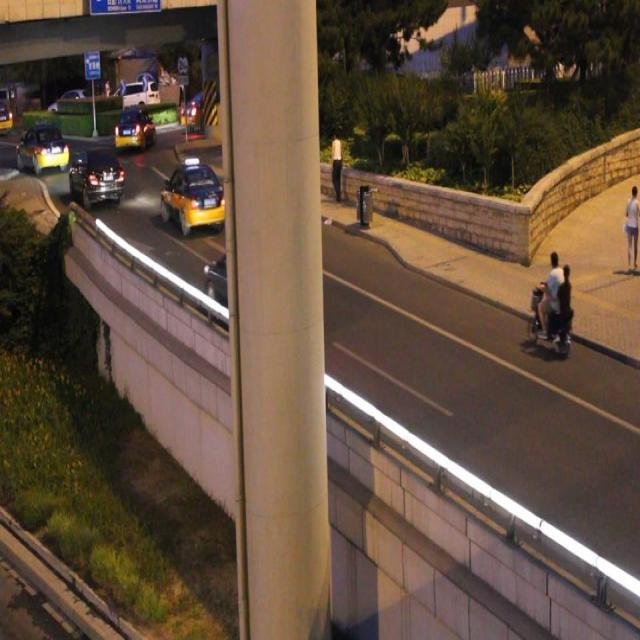car: (205, 250, 282, 317), (162, 168, 225, 229), (70, 150, 122, 202), (21, 129, 68, 170), (116, 108, 154, 149)
